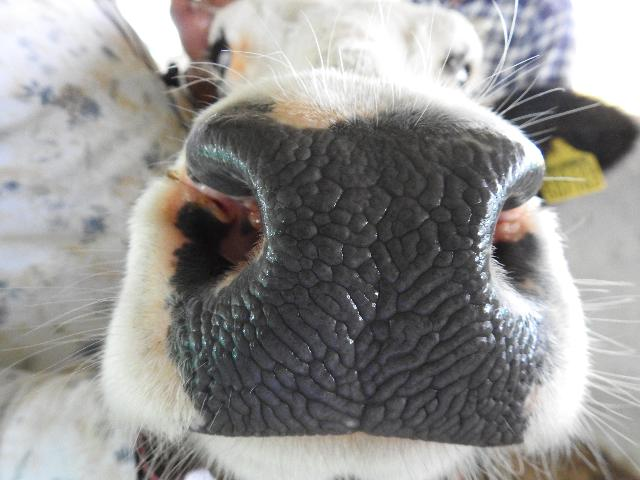Muzzle: (230, 124, 500, 442)
